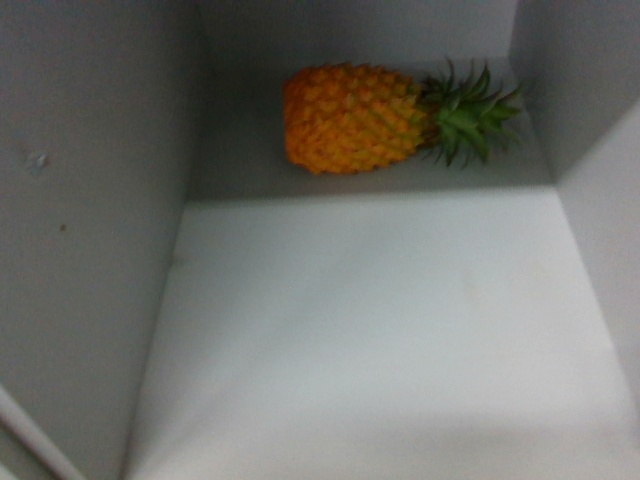pineapple: (274, 63, 527, 171)
